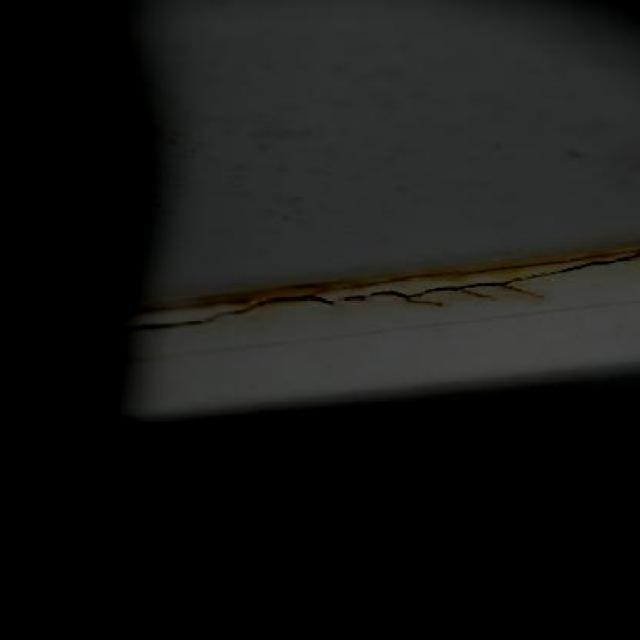crack: (146, 296, 334, 329), (492, 257, 638, 286), (338, 283, 489, 303)
